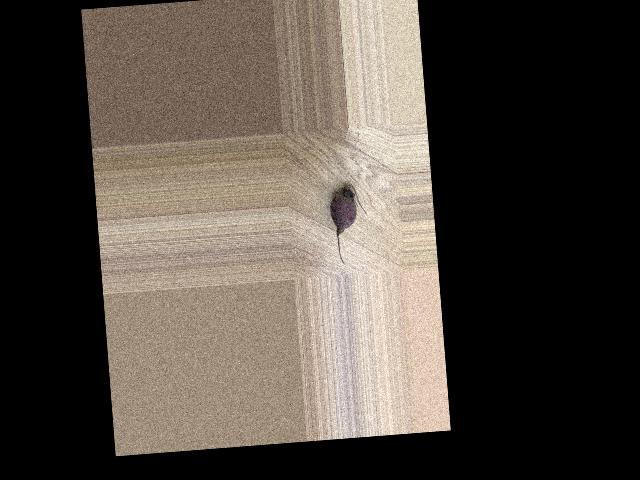beet: (327, 184, 369, 266)
